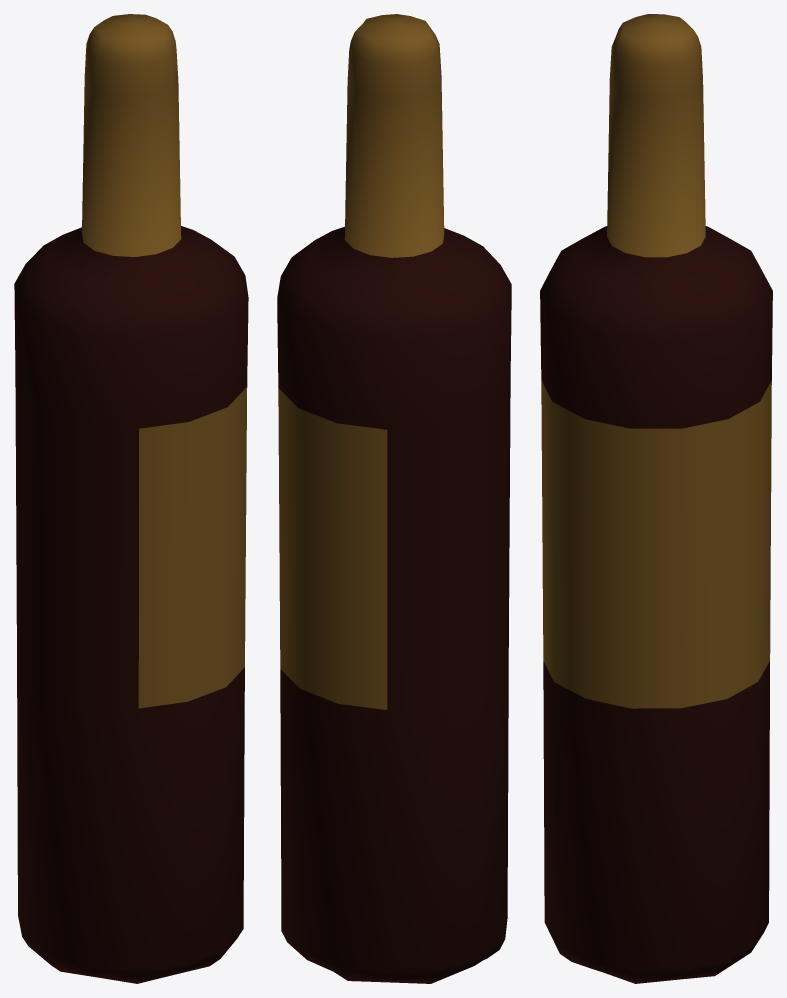
Rendered from Wine_bottle.fbx.
3 views of the same model, side by side, from view 1: azimuth 30°, elevation 25°; view 2: azimuth 150°, elevation 25°; view 3: azimuth 270°, elevation 25° (orthographic).
Parts seen in each view (by area): view 1: Wine_bottle; view 2: Wine_bottle; view 3: Wine_bottle.
Boxes of the visible parts, bbox=[...] form: Wine_bottle: bbox=[14, 14, 248, 983]; Wine_bottle: bbox=[277, 14, 511, 983]; Wine_bottle: bbox=[540, 14, 772, 983].
Size of the model in its own units: 8.25 by 36.1 by 8.25.
